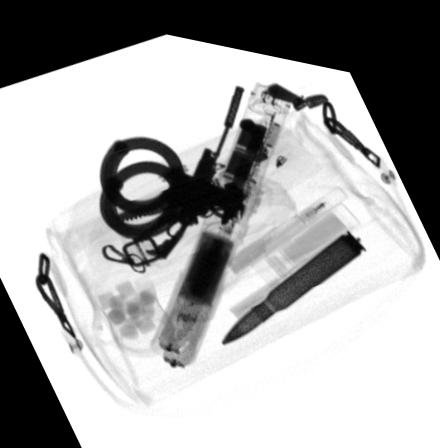Baton: (147, 71, 297, 359)
Bullet: (217, 214, 367, 337)
Gun: (146, 75, 244, 254)
HandCuffs: (98, 130, 245, 238)
